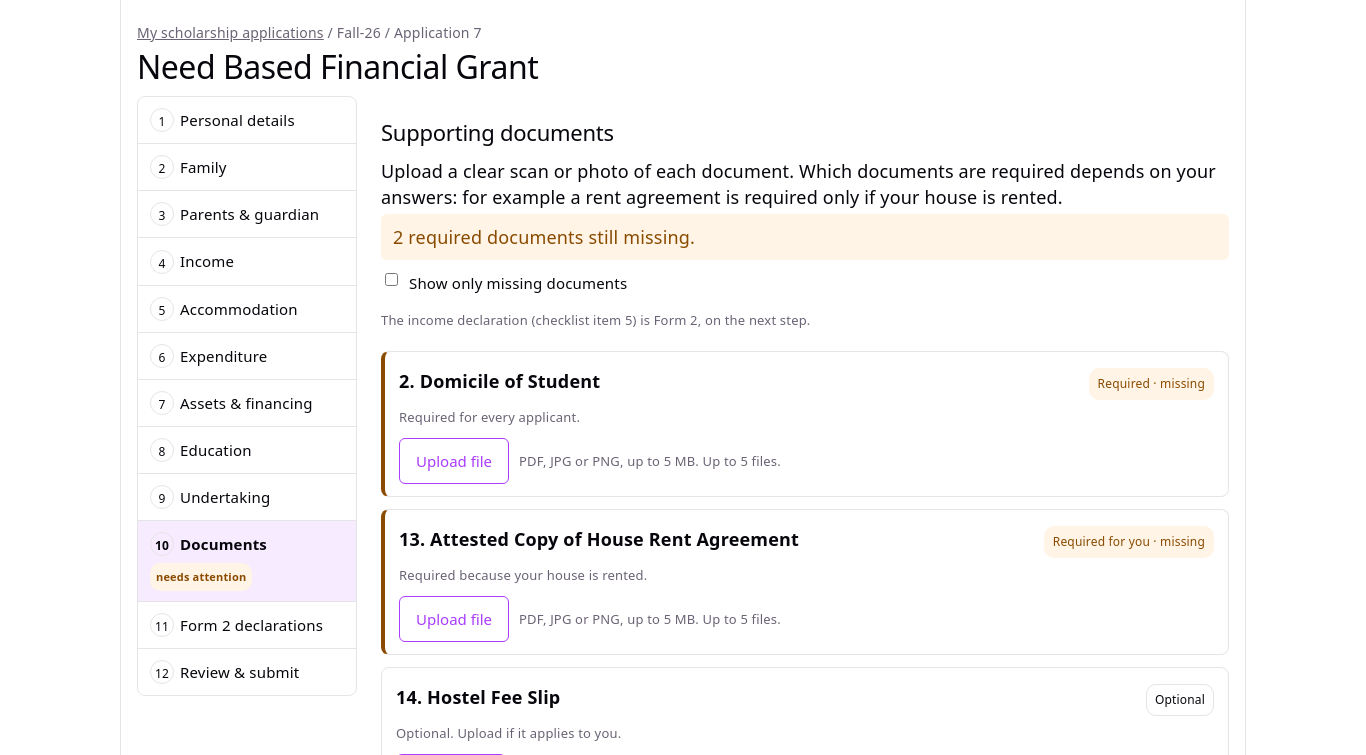
Scenario: documents page shows each slot with its rule and what is missing
This screenshot has width=1366, height=755.
Expected: the text "2 required documents still missing." is shown, [381,214,1229,260]
Expected: the text "Required because your house is rented." is shown, [399,566,647,584]
Click the checkbox labelled "Show only missing documents" at coordinates (392, 280), box [385,273,398,286]
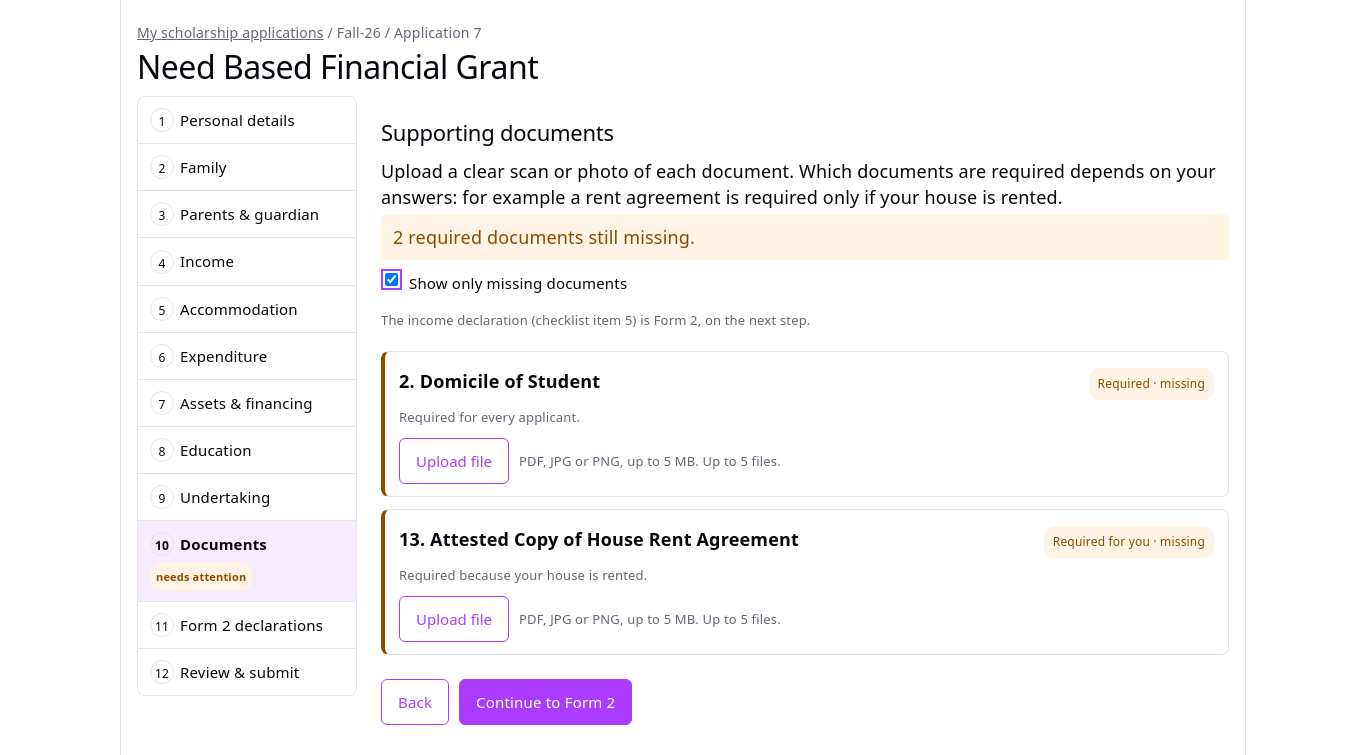
Expected: the text "14. Hostel Fee Slip" is gone
